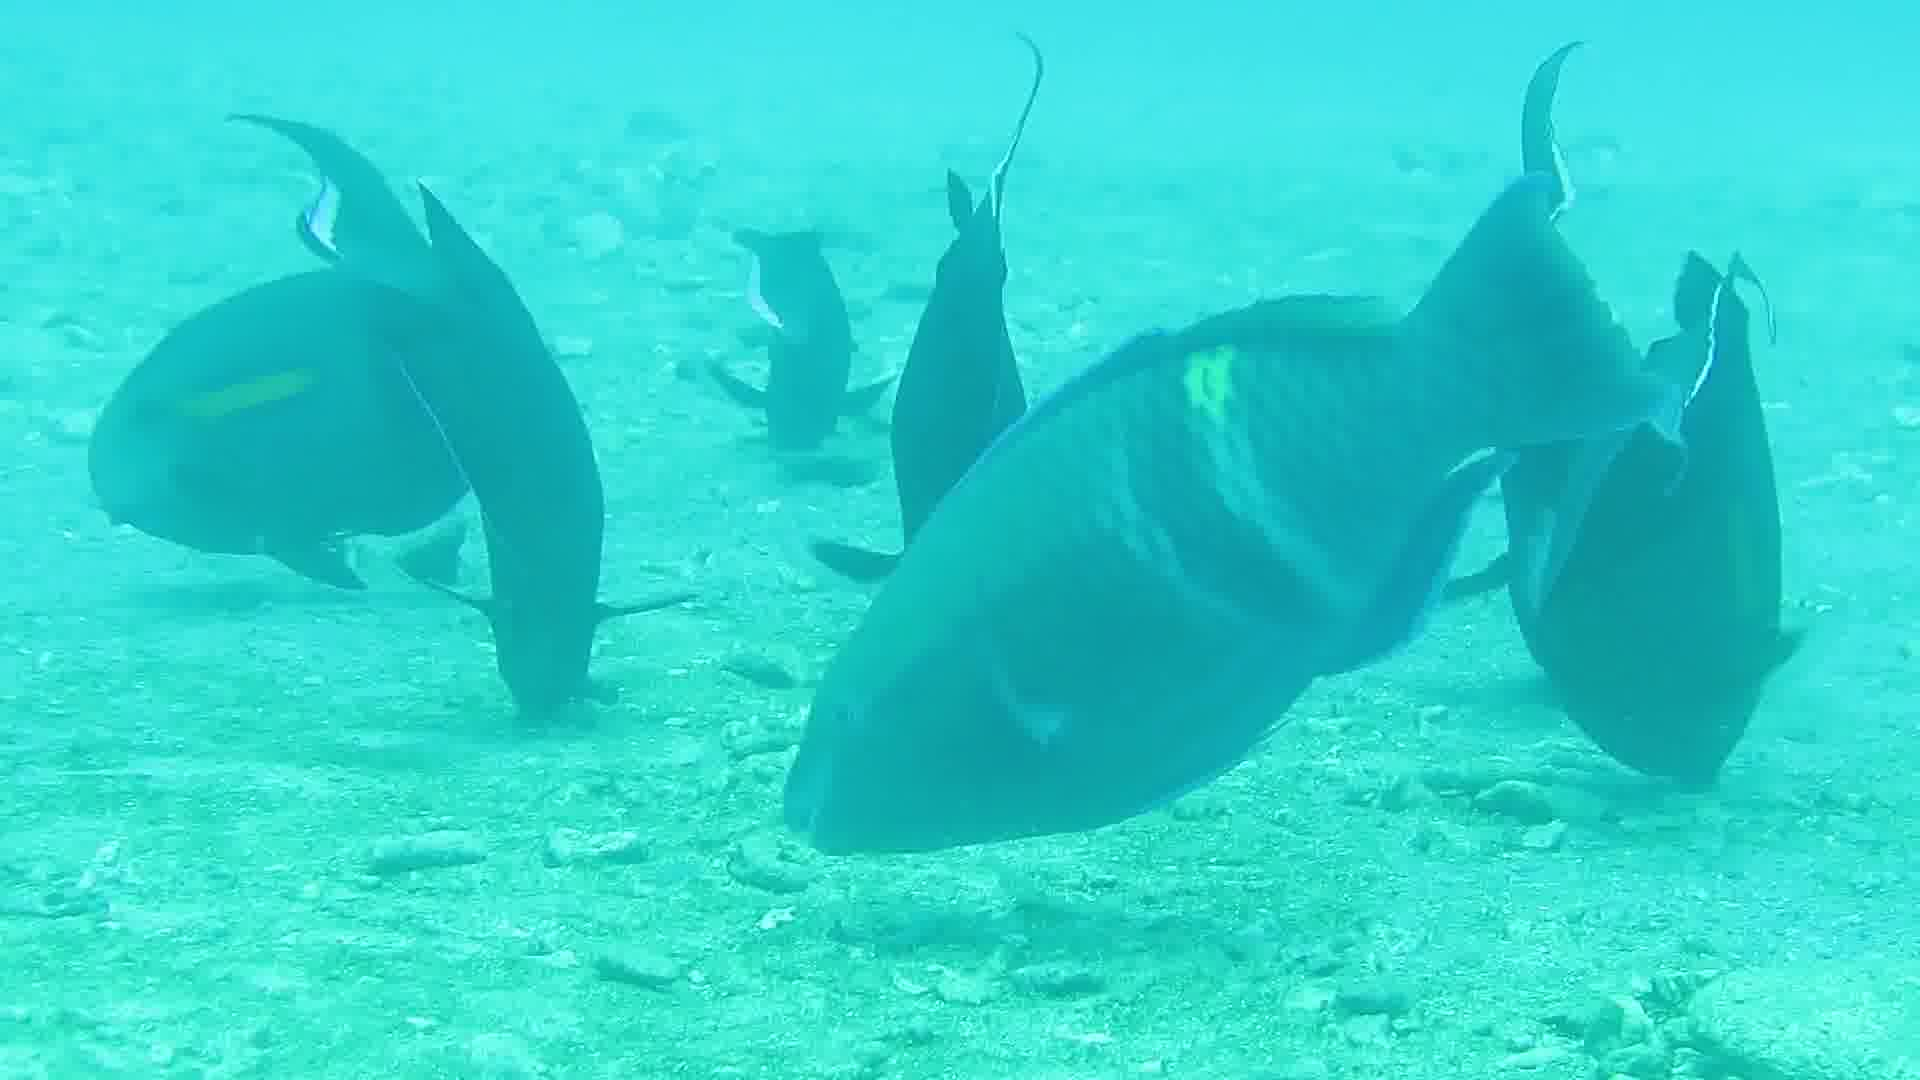Acanthurus olivaceus: (756, 257, 1577, 881), (71, 58, 684, 774), (1513, 185, 1898, 880), (855, 45, 1062, 651)
